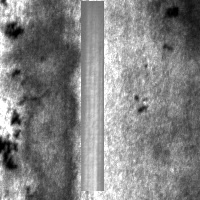inclusion: (1, 107, 24, 172), (2, 17, 23, 40), (162, 4, 182, 22)
patches: (20, 1, 80, 198), (149, 1, 199, 53)
scratches: (81, 1, 104, 191)
